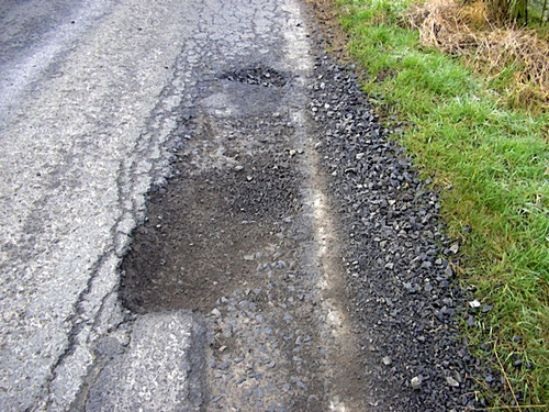pothole: (112, 155, 304, 318)
